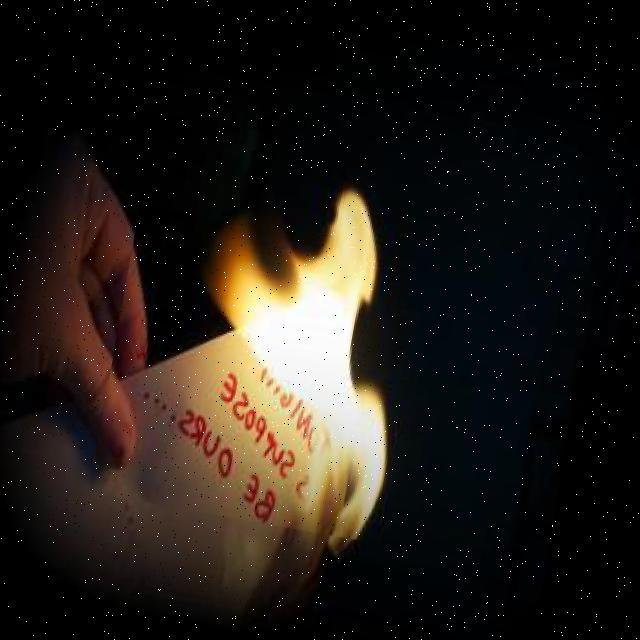fire: (88, 132, 544, 562)
